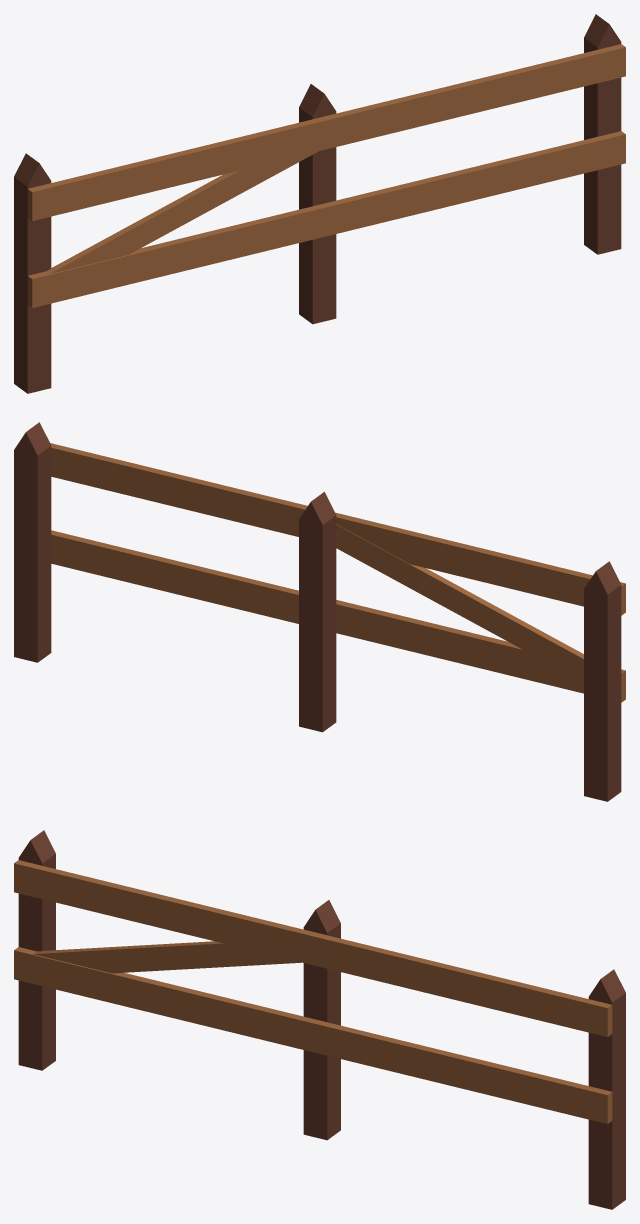
File: fence_segment.glb
3 views of the same model, one above another, from view 1: azimuth 30°, elevation 25°; view 2: azimuth 150°, elevation 25°; view 3: azimuth 330°, elevation 25° (orthographic).
Visible parts, largest first — view 1: rail_0, rail_1, post_0, post_2, post_1, rail_2; view 2: rail_0, rail_1, post_0, post_2, post_1, rail_2; view 3: rail_0, rail_1, post_2, post_1, post_0, rail_2.
Boxes of the visible parts, x1=… form: rail_0: x1=27, y1=44, x2=625, y2=220; rail_1: x1=27, y1=131, x2=625, y2=307; post_0: x1=14, y1=153, x2=51, y2=393; post_2: x1=584, y1=14, x2=621, y2=254; post_1: x1=299, y1=84, x2=336, y2=324; rail_2: x1=46, y1=151, x2=318, y2=273; rail_0: x1=50, y1=443, x2=625, y2=615; rail_1: x1=51, y1=530, x2=625, y2=702; post_0: x1=584, y1=561, x2=621, y2=801; post_2: x1=14, y1=422, x2=51, y2=662; post_1: x1=299, y1=492, x2=336, y2=732; rail_2: x1=336, y1=524, x2=583, y2=682; rail_0: x1=14, y1=860, x2=612, y2=1036; rail_1: x1=14, y1=947, x2=612, y2=1123; post_2: x1=588, y1=969, x2=625, y2=1209; post_1: x1=303, y1=900, x2=340, y2=1140; post_0: x1=18, y1=830, x2=55, y2=1070; rail_2: x1=33, y1=941, x2=301, y2=973.
Size of the model in its own units: 3 by 1.1 by 0.16.
